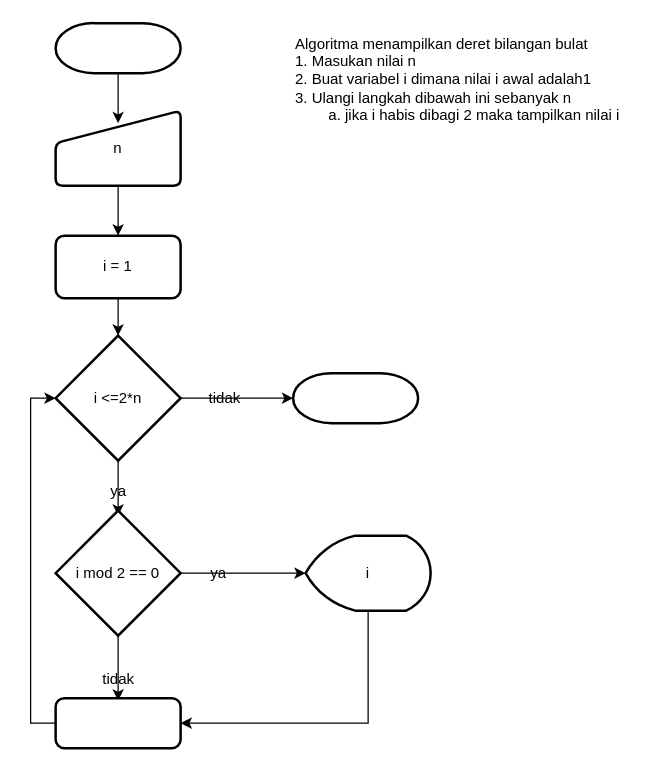
The diagram is 665 pixels wide and 770 high, and some of its shapes have lost their labels. The shapes that lost their labels are listed below. From the top down, each one's box as (x1, y1, x2, y2) in pixels, then its label:
(54, 21, 181, 74): mulai
(291, 371, 419, 424): selesai
(54, 696, 181, 749): i = i + 1
